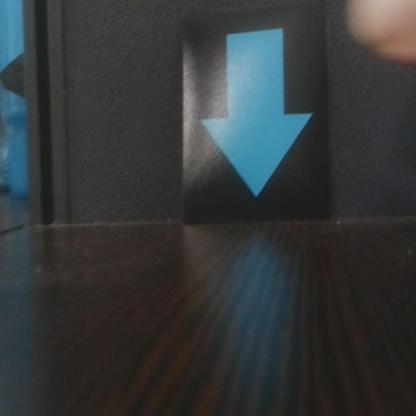down: (181, 2, 332, 221)
